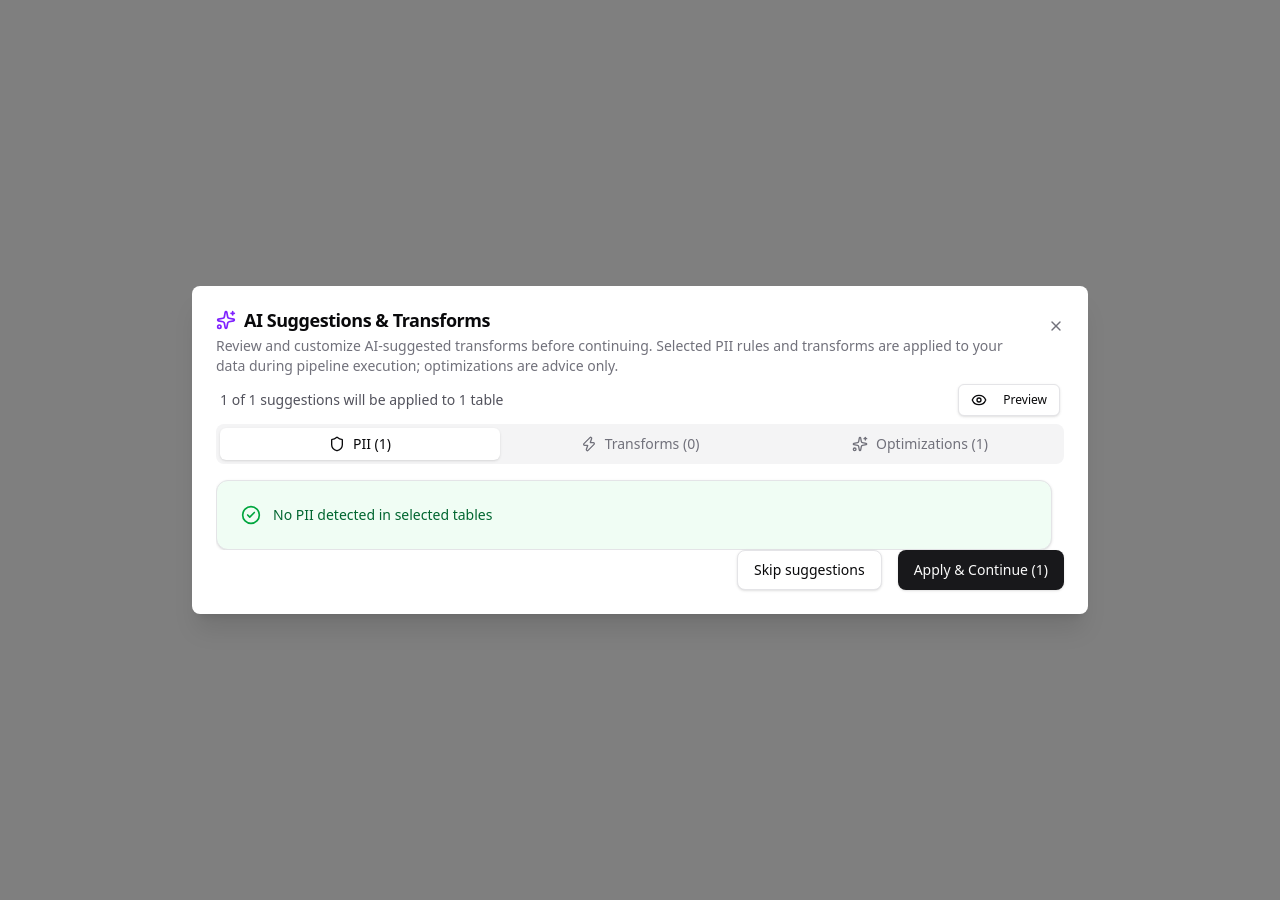
Test: SuggestionsReviewDialog — optimizations are advice › says so in the description and on the tab, and the Apply count leaves them out
Expected: the button "Apply & Continue (1)" is shown, [898,550,1064,590]
Expected: the text "optimizations are advice only" is shown, [216,336,1003,375]
What coordinates should you click on to do the following:
click the tab "Optimizations (1)"
I would click on:
 (920, 444)
Its box is [780,428,1060,460].
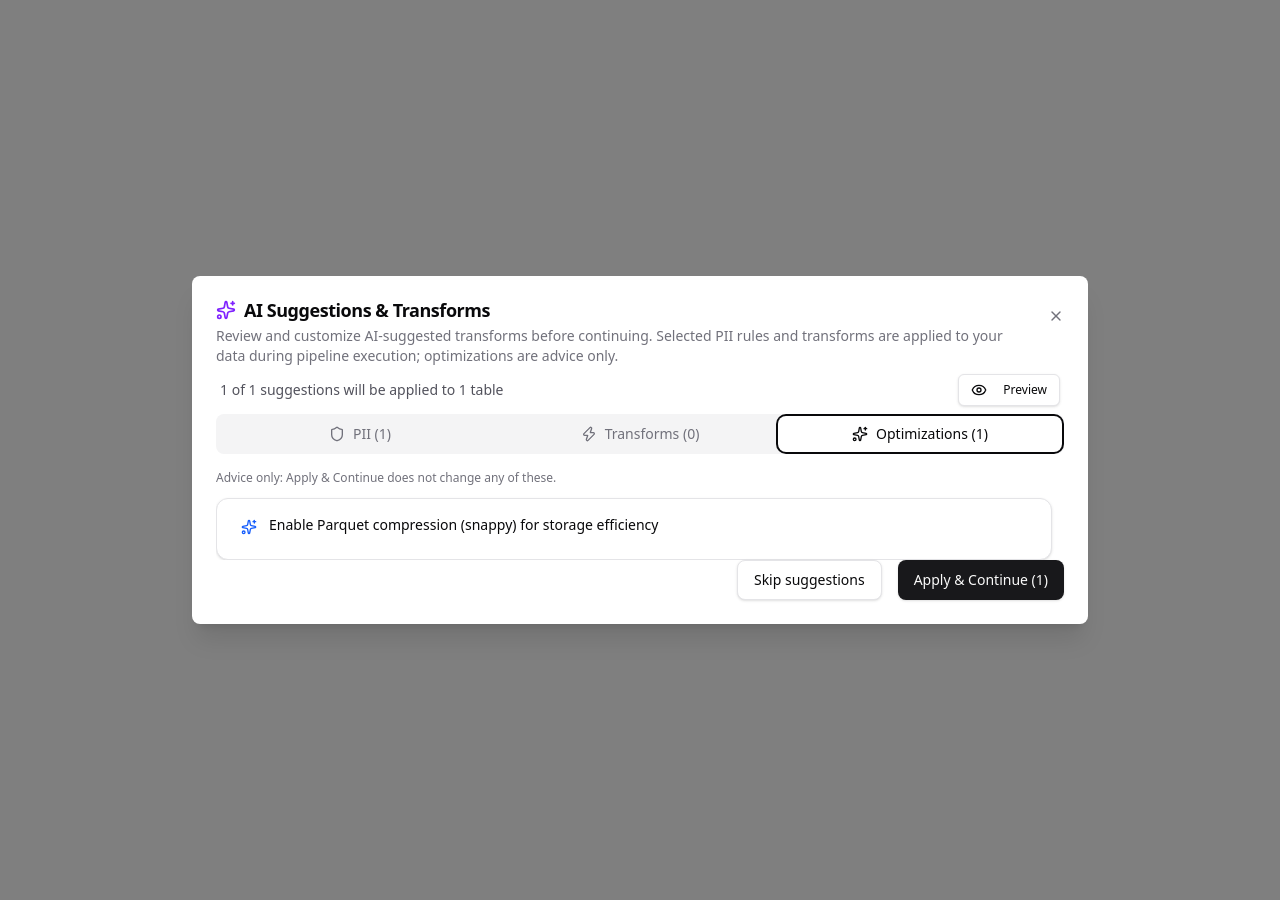
Now the text "Advice only: Apply & Continue does not change any of these." is shown, box [216,469,556,486]
Now the text "Enable Parquet compression (snappy) for storage efficiency" is shown, box [269,515,658,534]
